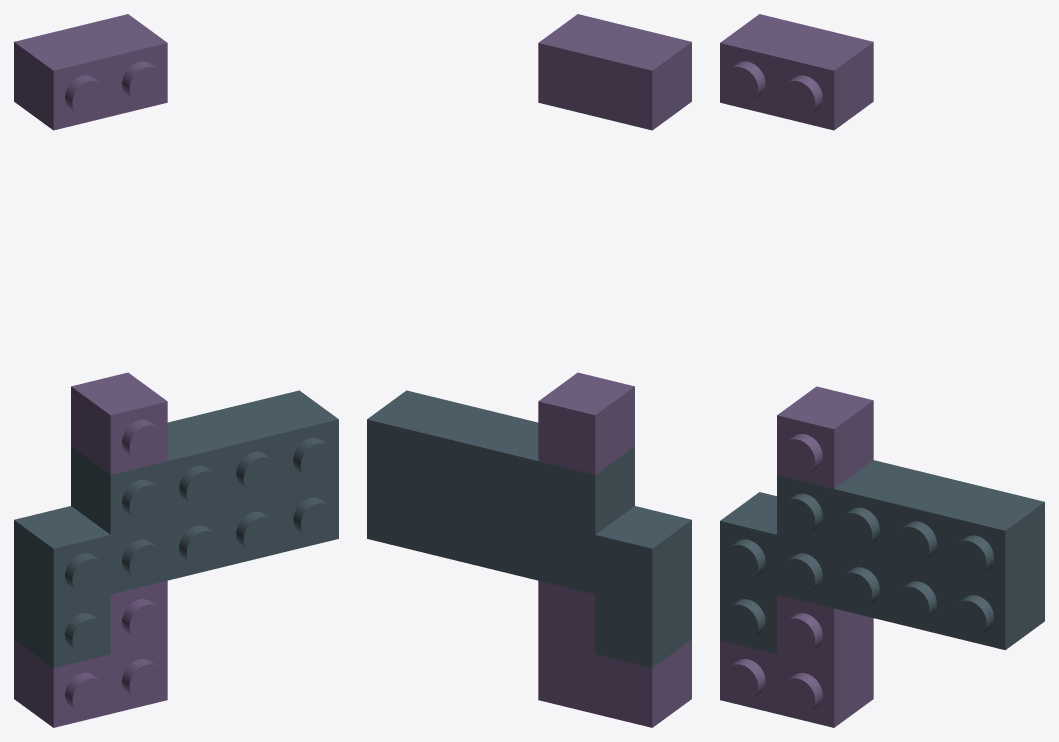
The model's file is current.glb.
3 renders of one model, left to right at view 1: azimuth 30°, elevation 25°; view 2: azimuth 150°, elevation 25°; view 3: azimuth 330°, elevation 25°, orthographic.
Parts seen in each view (by area): view 1: world; view 2: world; view 3: world.
Part boxes in pixels (x1,y1,x2,y2): world: (14, 14, 338, 727); world: (367, 14, 691, 727); world: (720, 14, 1044, 727).
Size of the model in its own units: 40 by 88 by 11.4.
